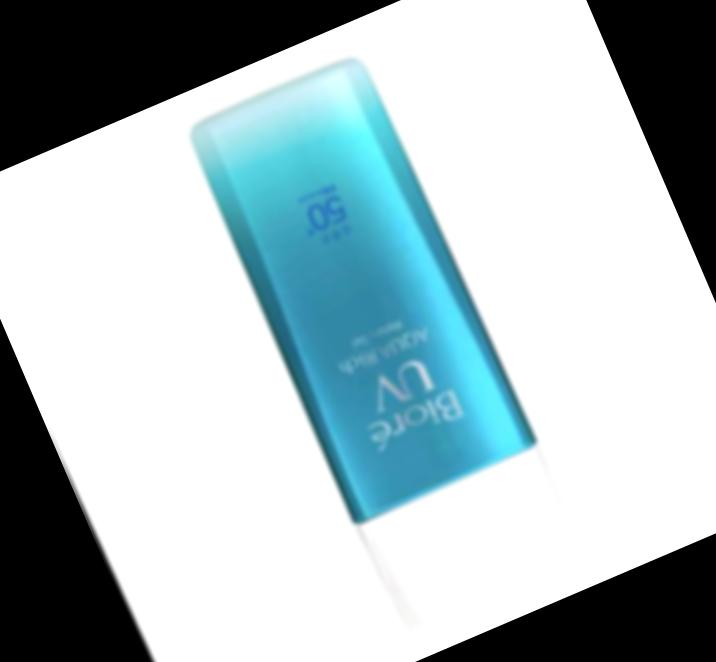cosmetic: (174, 41, 600, 648)
